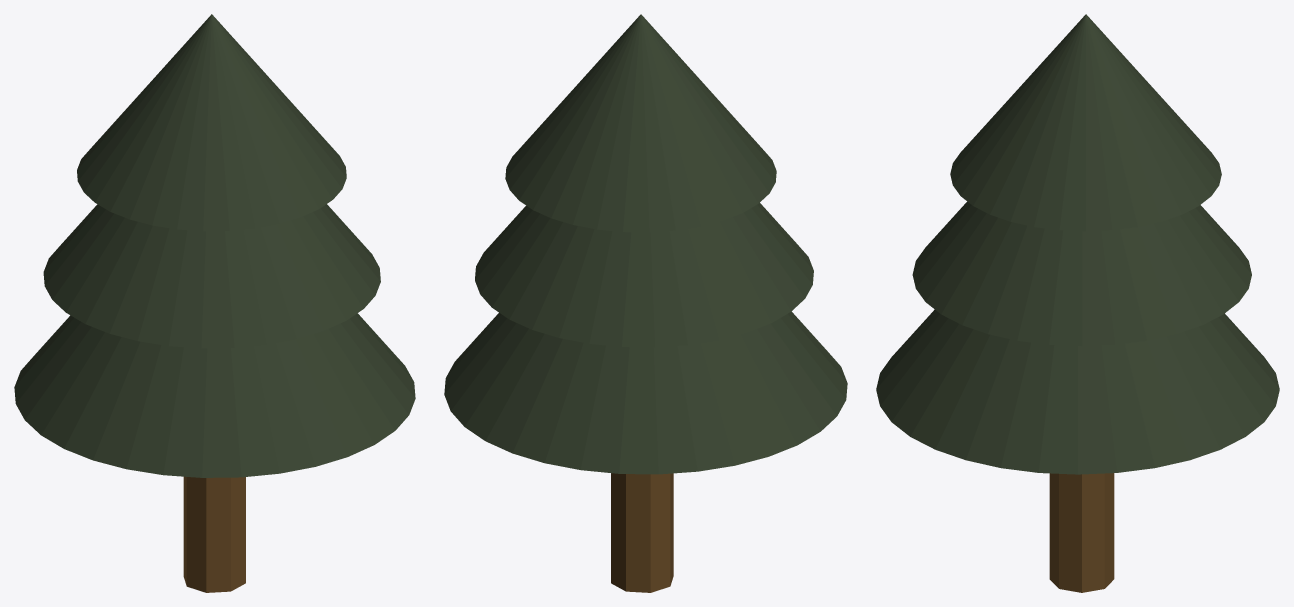
Rendered from Ёлка.fbx.
The picture shows the model from 3 angles, left to right: view 1: azimuth 30°, elevation 25°; view 2: azimuth 150°, elevation 25°; view 3: azimuth 270°, elevation 25°; orthographic projection.
Parts seen in each view (by area): view 1: Елка; view 2: Елка; view 3: Елка.
Part boxes in pixels (x1=…): Елка: x1=14, y1=14, x2=415, y2=592; Елка: x1=444, y1=14, x2=847, y2=592; Елка: x1=876, y1=14, x2=1279, y2=592.
Size of the model in its own units: 0.6585 by 1.02 by 0.6615.
